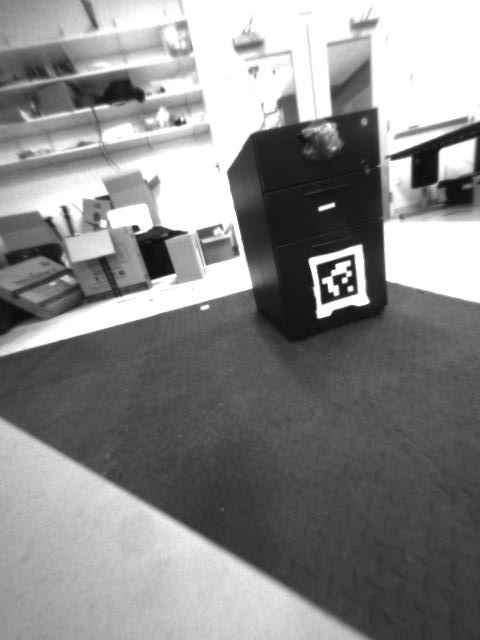drawer: (293, 124, 350, 163)
